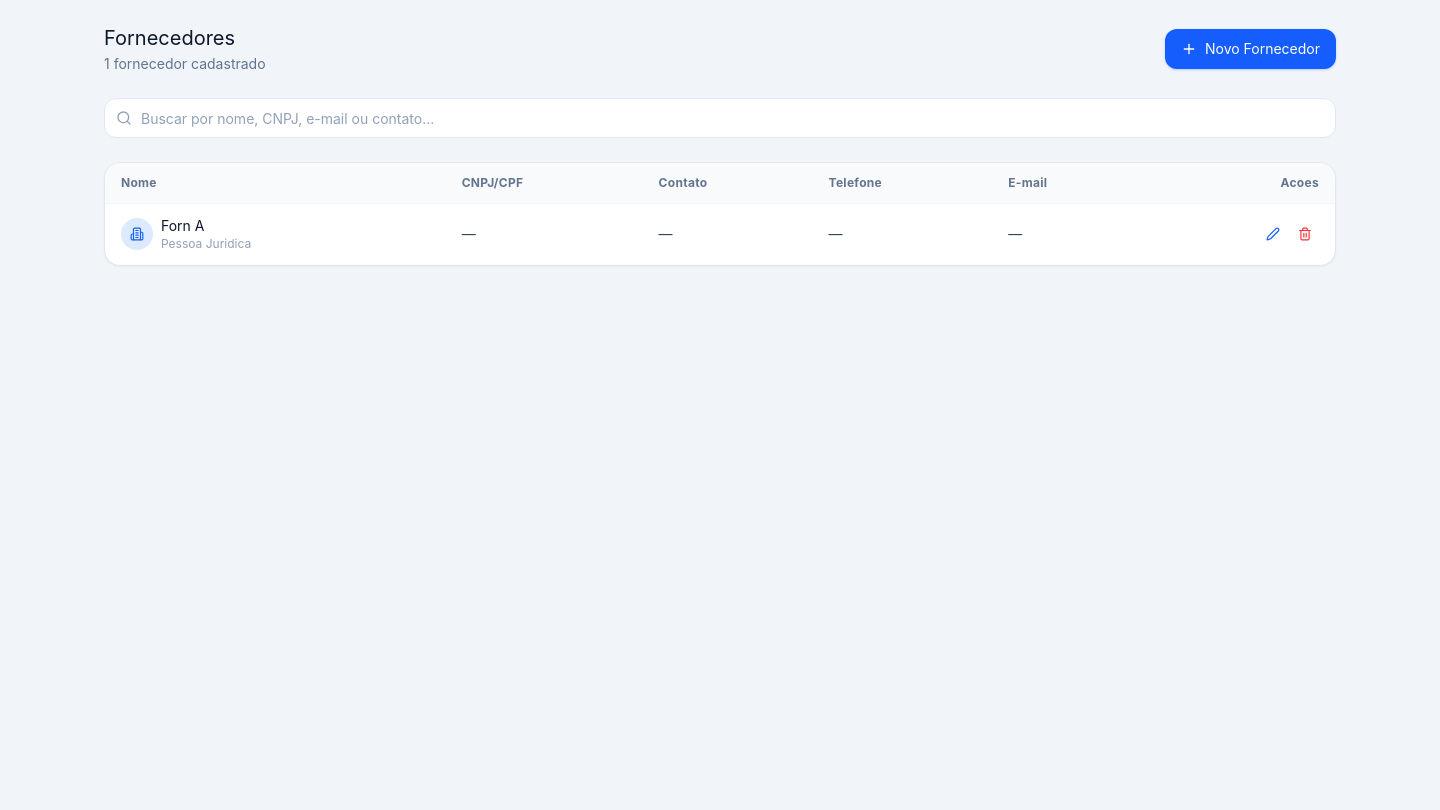
Fornecedores › opens delete confirmation
This screenshot has width=1440, height=810.
Step 1. Click the button named "Excluir" → (1305, 234), box [1291,220,1319,248]
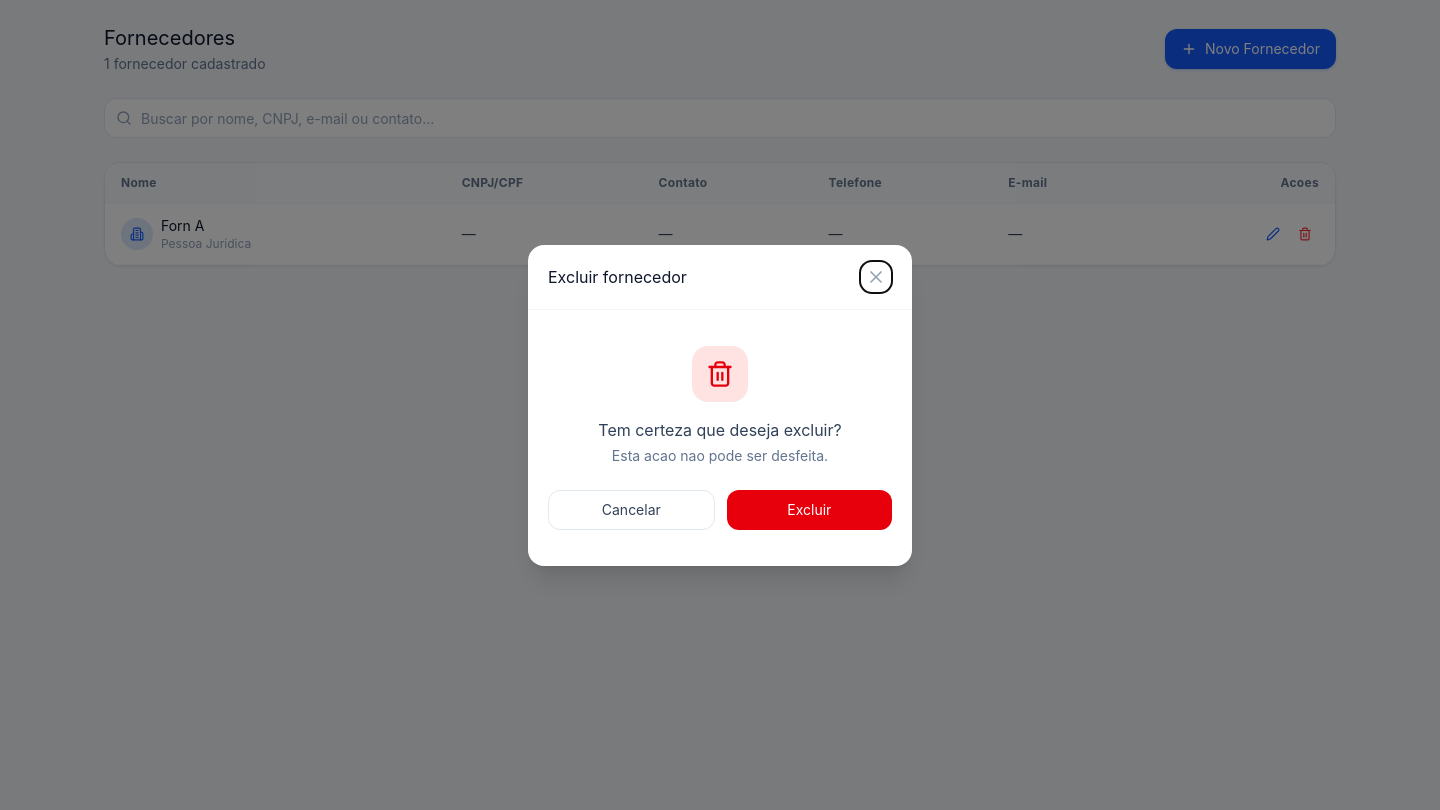
Now the text "Excluir fornecedor" is shown, box [548,264,687,288]
